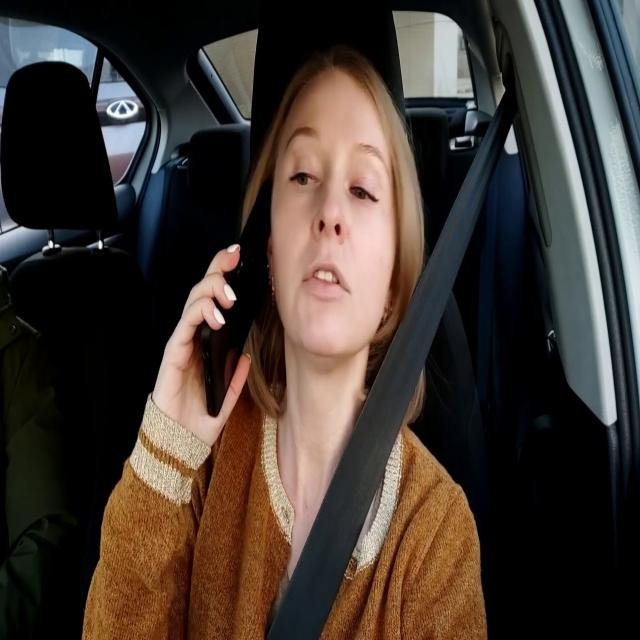phone: (200, 175, 272, 417)
